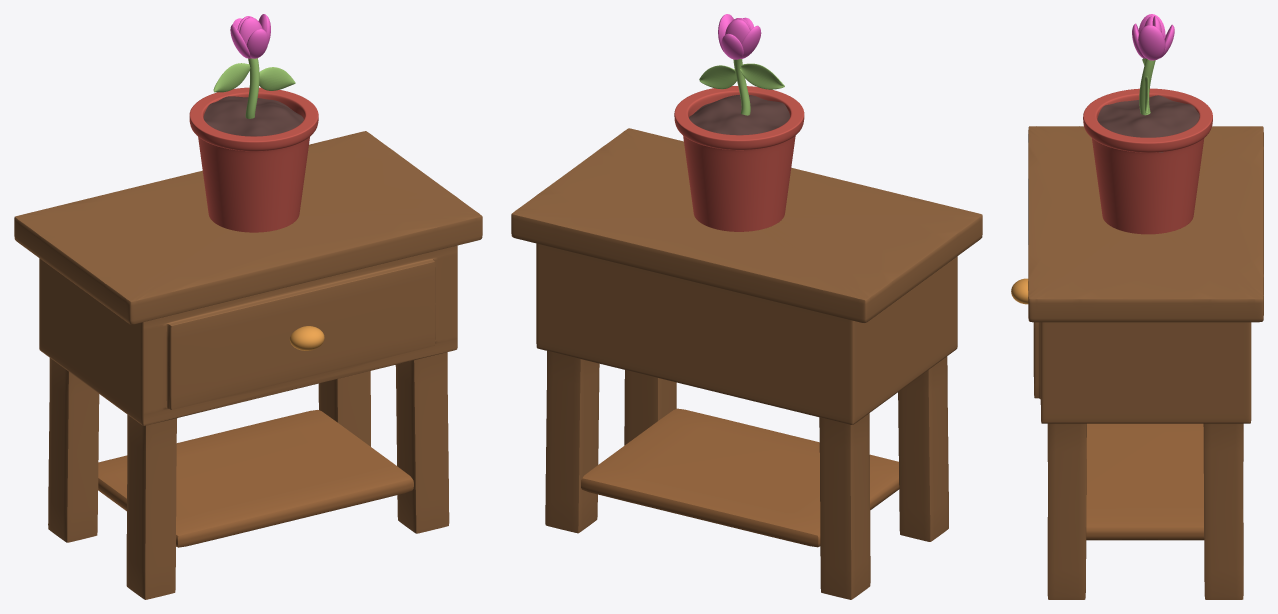
Rendered from table_NH.glb.
The picture shows the model from 3 angles, left to right: view 1: azimuth 30°, elevation 25°; view 2: azimuth 150°, elevation 25°; view 3: azimuth 270°, elevation 25°; orthographic projection.
Visible parts, largest first — view 1: table, flower pot, flower; view 2: table, flower pot, flower; view 3: table, flower pot, flower.
Boxes of the visible parts, x1,y1,x2,y2 form: table: (14,131,482,599); flower pot: (189,87,318,232); flower: (213,14,295,118); table: (511,128,982,599); flower pot: (674,86,804,231); flower: (699,14,784,115); table: (1011,126,1263,599); flower pot: (1083,88,1212,234); flower: (1132,14,1174,115).
Bounding box in the file's own units: 2.49 × 3.41 × 1.53.
